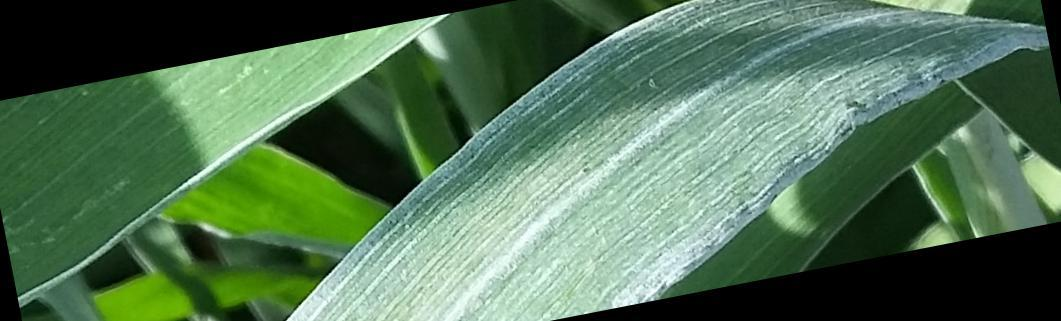Wheat: (309, 13, 999, 316)
